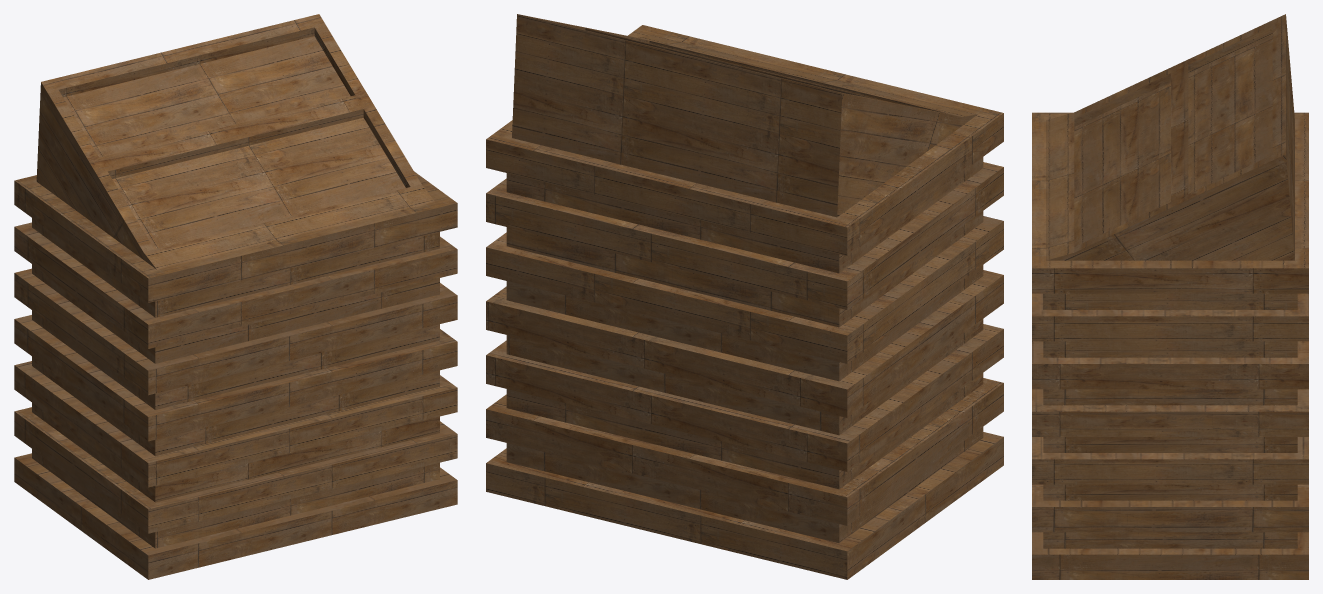
Rendered from UpStand.fbx.
3 renders of one model, left to right at view 1: azimuth 30°, elevation 25°; view 2: azimuth 150°, elevation 25°; view 3: azimuth 270°, elevation 25°, orthographic. The views are drawn at different scales.
Parts seen in each view (by area): view 1: UpStand; view 2: UpStand; view 3: UpStand.
Boxes of the visible parts, x1,y1,x2,y2 form: UpStand: [14, 14, 457, 579]; UpStand: [486, 14, 1003, 579]; UpStand: [1032, 14, 1308, 579].
Size of the model in its own units: 0.8 by 1 by 0.6.
1 material, 1 textured.
